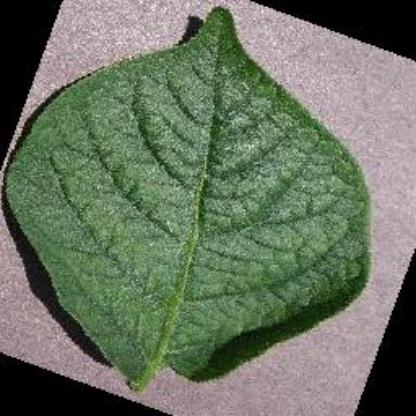Healthy-plant: (0, 13, 393, 410)
